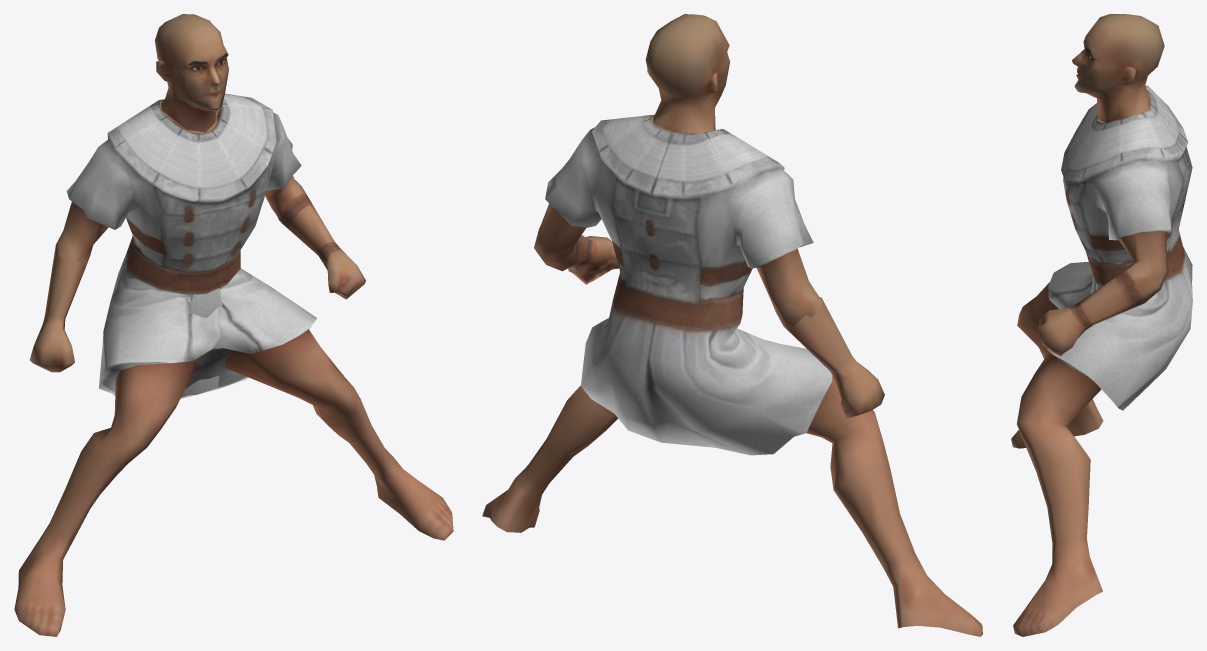
File: rider-slice-base.glb
3 renders of one model, left to right at view 1: azimuth 30°, elevation 25°; view 2: azimuth 150°, elevation 25°; view 3: azimuth 270°, elevation 25°, orthographic. The views are drawn at different scales.
Size of the model in its own units: 1.55 by 1.82 by 0.5738.
Materials: 1 (1 with a texture image).
